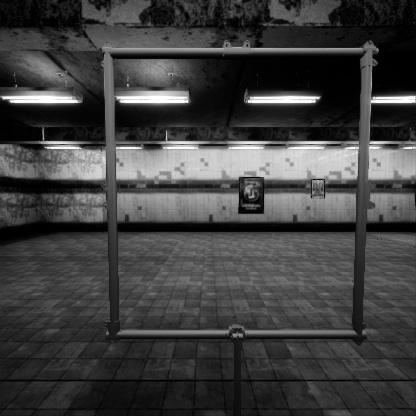gate: (104, 72, 402, 371)
